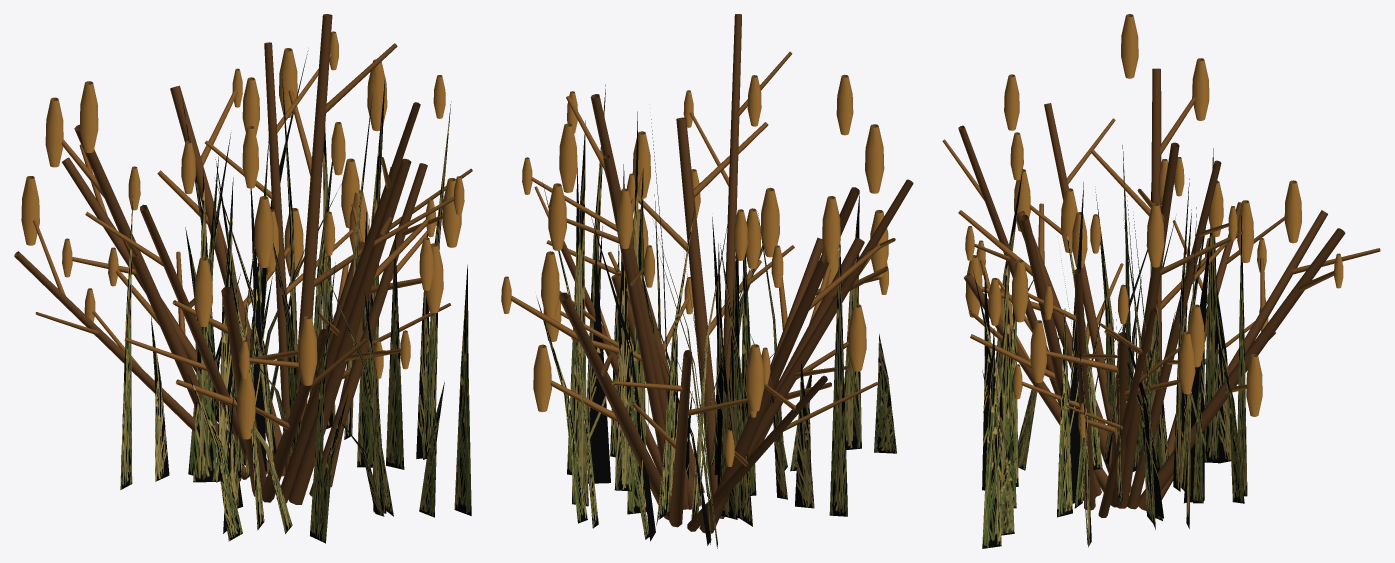
File: dry_bush_clump.obj
3 views of the same model, side by side, from view 1: azimuth 30°, elevation 25°; view 2: azimuth 150°, elevation 25°; view 3: azimuth 270°, elevation 25° (orthographic). The views are drawn at different scales.
Parts seen in each view (by area): view 1: RealisticDryScrubClump; view 2: RealisticDryScrubClump; view 3: RealisticDryScrubClump.
Boxes of the visible parts, x1,y1,x2,y2 form: RealisticDryScrubClump: [14, 14, 472, 543]; RealisticDryScrubClump: [501, 14, 913, 548]; RealisticDryScrubClump: [942, 14, 1380, 548].
Size of the model in its own units: 0.9298 by 1.01 by 0.9904.
